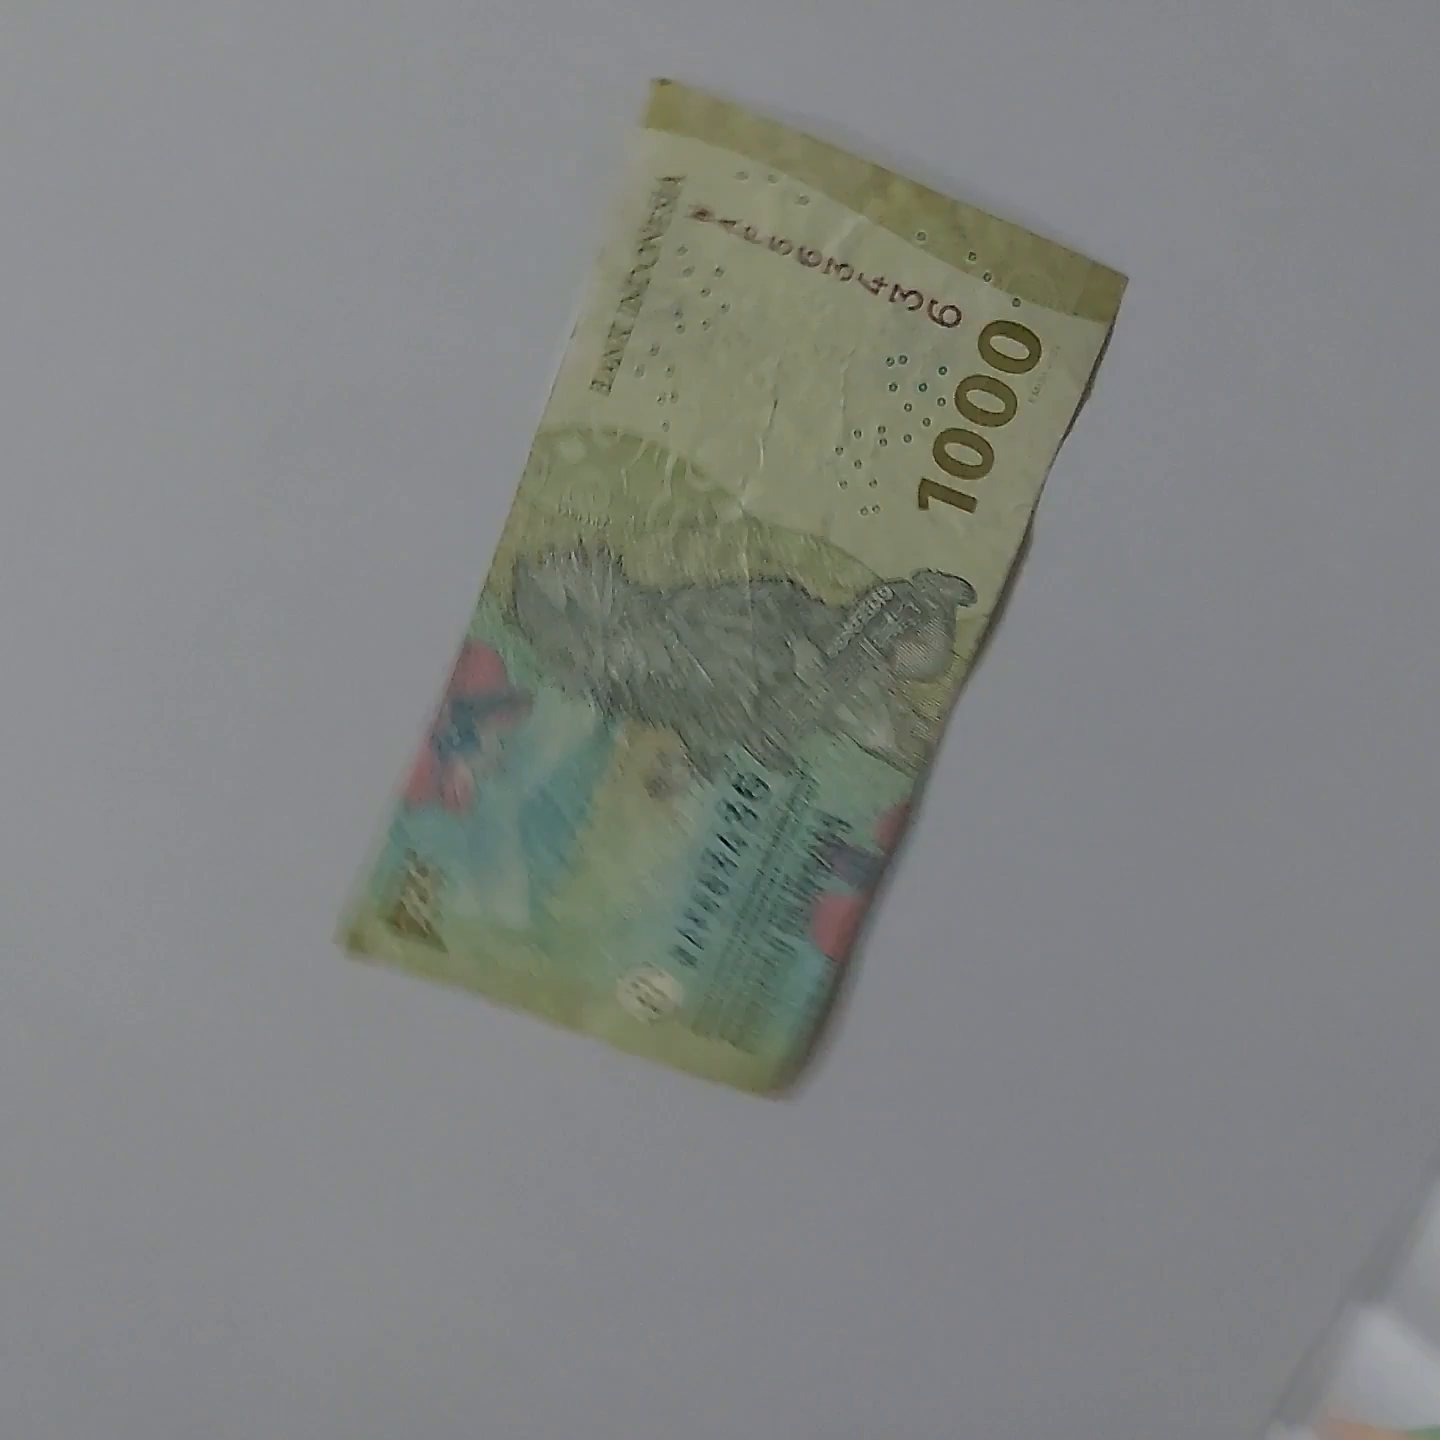1k: (641, 73, 1154, 994)
